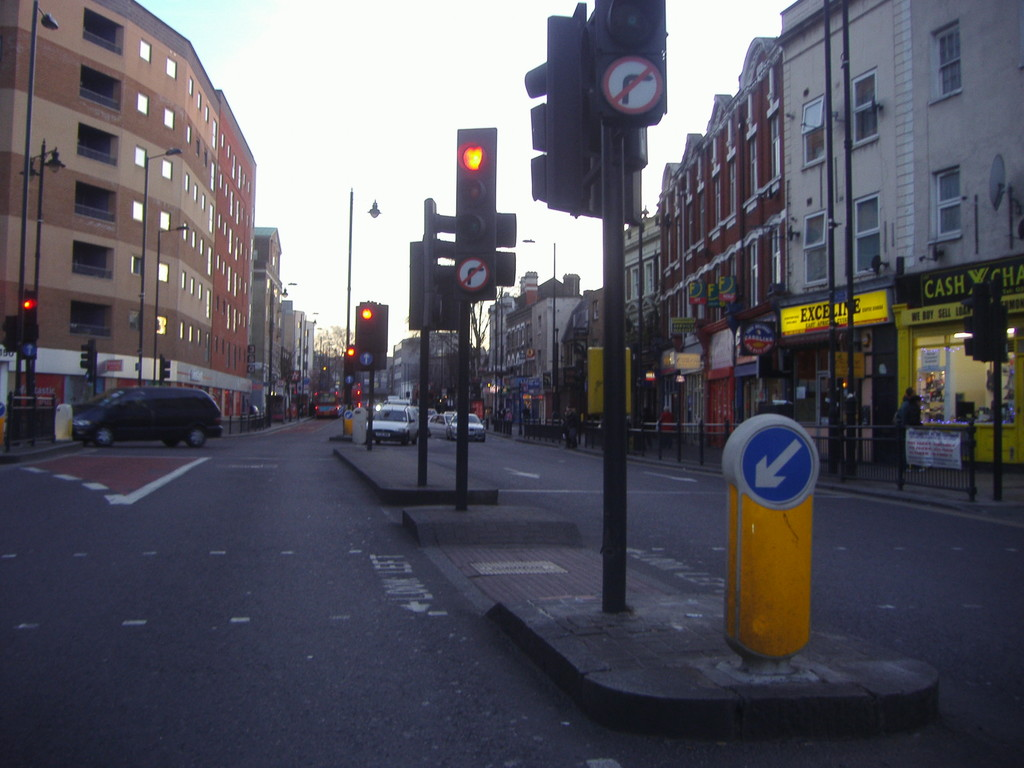keep_left: (741, 423, 815, 504)
no_right_turn: (605, 54, 664, 115)
red_light: (454, 143, 487, 173), (359, 307, 373, 320), (22, 299, 35, 310), (346, 346, 357, 356)
